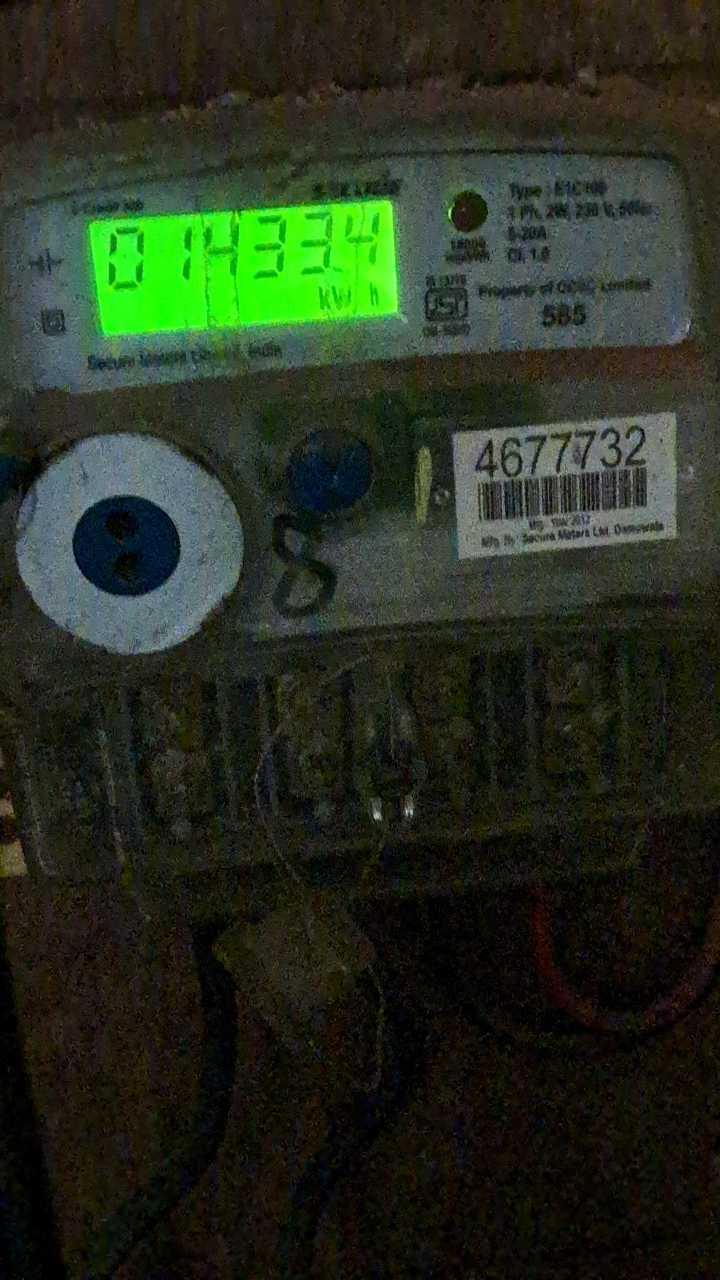meter_readings: (99, 205, 392, 298)
serial_number: (469, 425, 655, 474)
